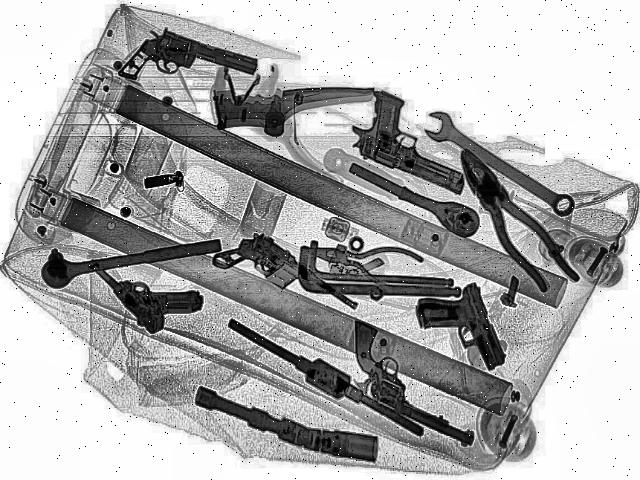Gun: (307, 322, 518, 446), (332, 90, 508, 196), (206, 228, 362, 340), (117, 26, 265, 110), (87, 240, 215, 336), (411, 285, 512, 381)
Pliers: (440, 144, 586, 298), (300, 229, 430, 299)
Wrench: (414, 110, 590, 222)
